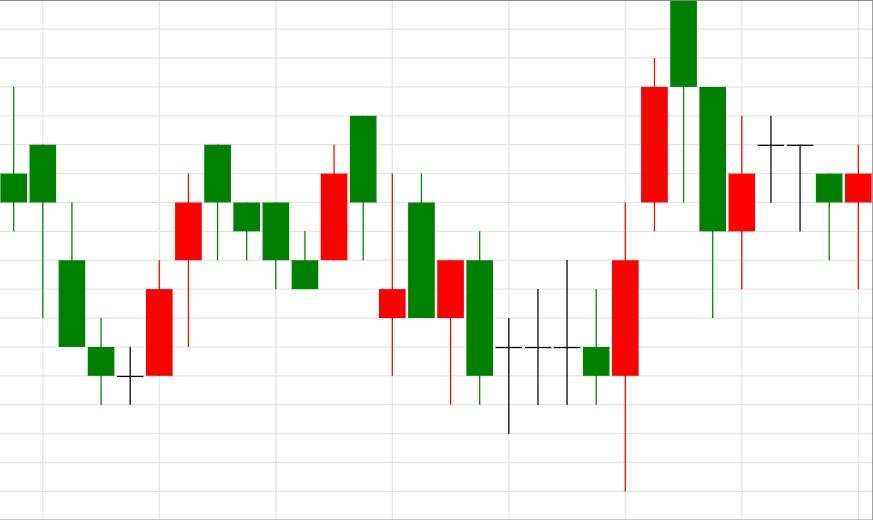bullish_engulfing_rise: (350, 115, 639, 492)
morning_star_rise: (0, 86, 172, 406)
